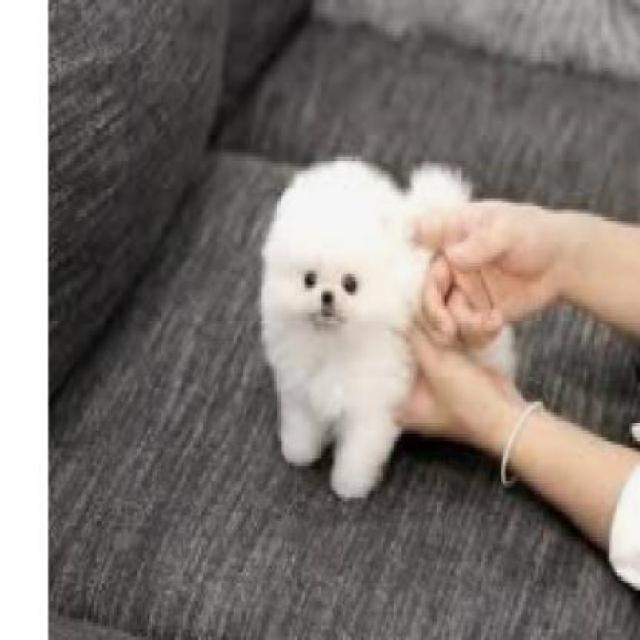Dog: (260, 151, 526, 509)
